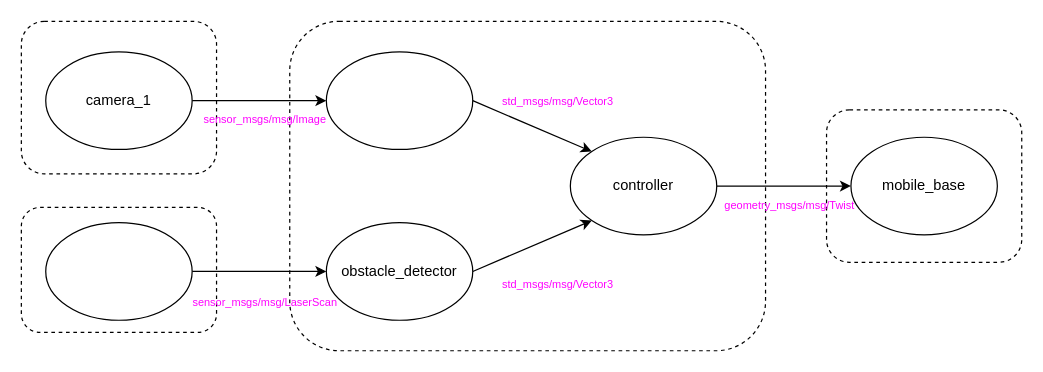
This 1043x372 diagram has some shape labels left out. The shapes that lost their labels are listed below. From the top down, each one's centre as x and y in pixels, then its label:
the point at 399,100: ball_detector
the point at 118,270: laser_1
